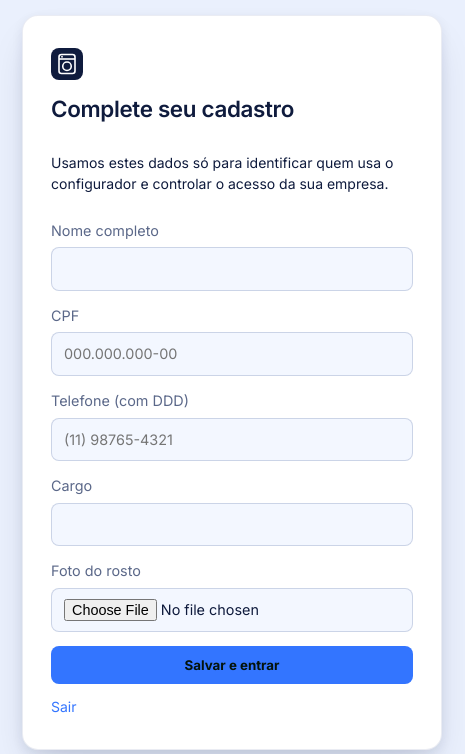
it: CompleteRegistrationPage › não envia sem foto
In the field labelled "Nome completo": (232, 269) [51,247,413,291], type "Ana Lima"
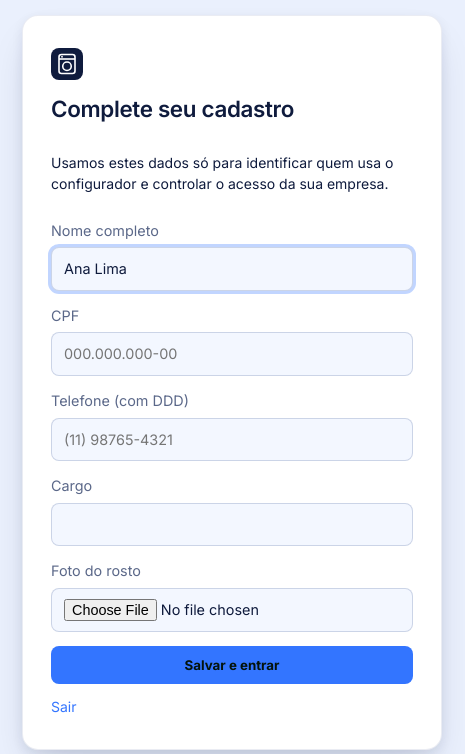
In the field labelled "CPF": (232, 354) [51,332,413,376], type "529.982.247-25"
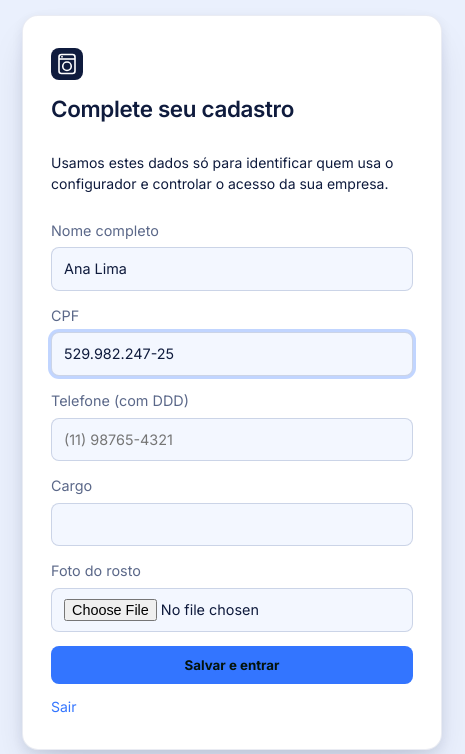
In the field labelled "Telefone (com DDD)": (232, 439) [51,418,413,461], type "11987654321"
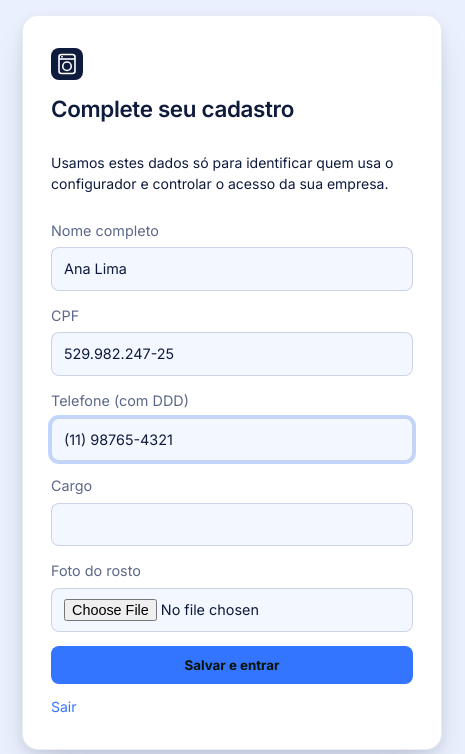
In the field labelled "Cargo": (232, 525) [51,503,413,546], type "Vendedora"
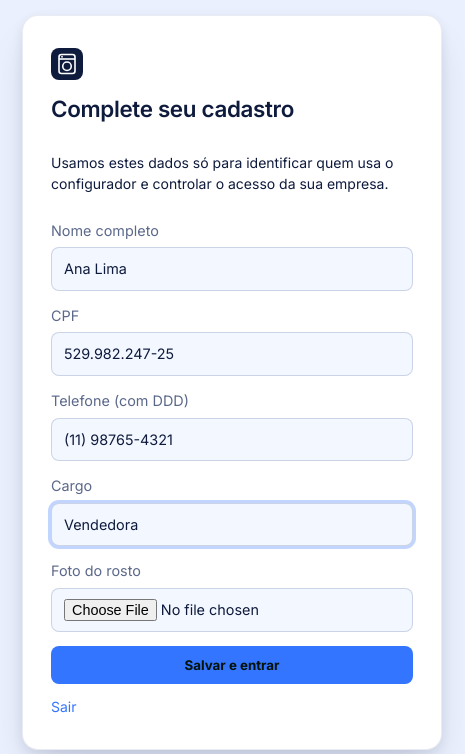
Click the button "Salvar e entrar": (232, 665) [51,646,413,684]
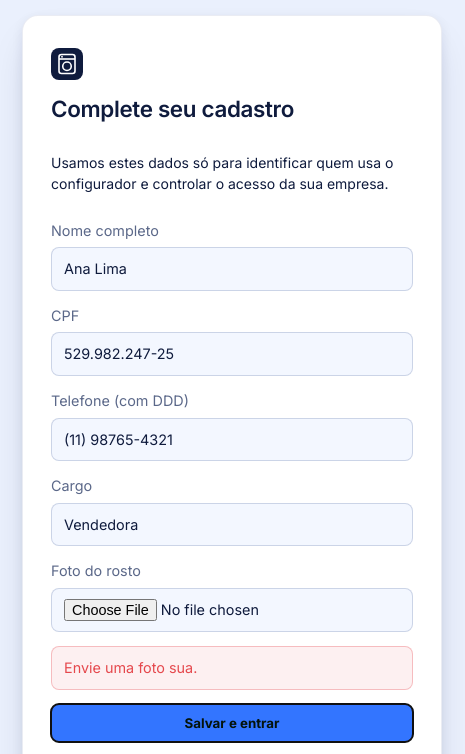
expect the message reads "Envie uma foto sua.": met, box [64,659,197,676]
